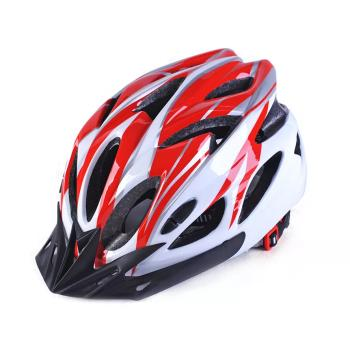with_helmet: (27, 45, 309, 310)
